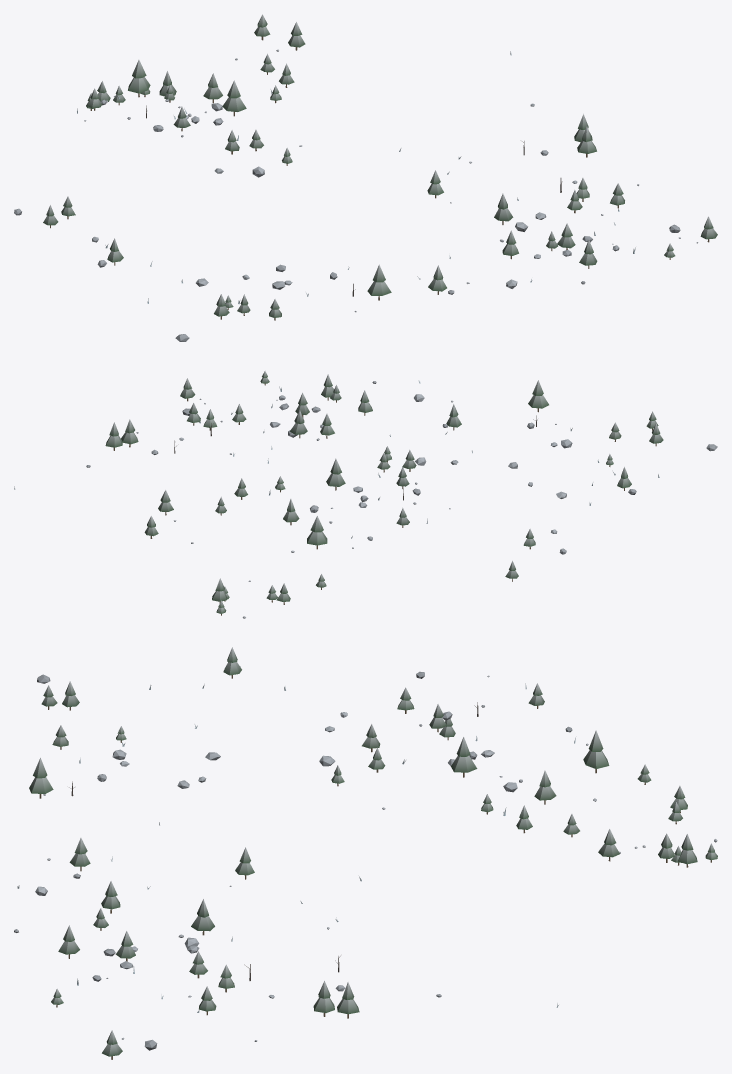
File: frost_land_scatter_c21_09_lod1.glb
The picture shows the model from 3 angles, top to bottom: view 1: azimuth 30°, elevation 25°; view 2: azimuth 150°, elevation 25°; view 3: azimuth 270°, elevation 25°; orthographic projection. The views are drawn at different scales.
Parts seen in each view (by area): view 1: frost_land_scatter_c21_09_lod1; view 2: frost_land_scatter_c21_09_lod1; view 3: frost_land_scatter_c21_09_lod1.
Boxes of the visible parts, x1,y1,x2,y2 form: frost_land_scatter_c21_09_lod1: [14, 14, 717, 341]; frost_land_scatter_c21_09_lod1: [14, 370, 717, 618]; frost_land_scatter_c21_09_lod1: [14, 647, 717, 1059].
Bounding box in the file's own units: 259 × 55.31 × 243.
